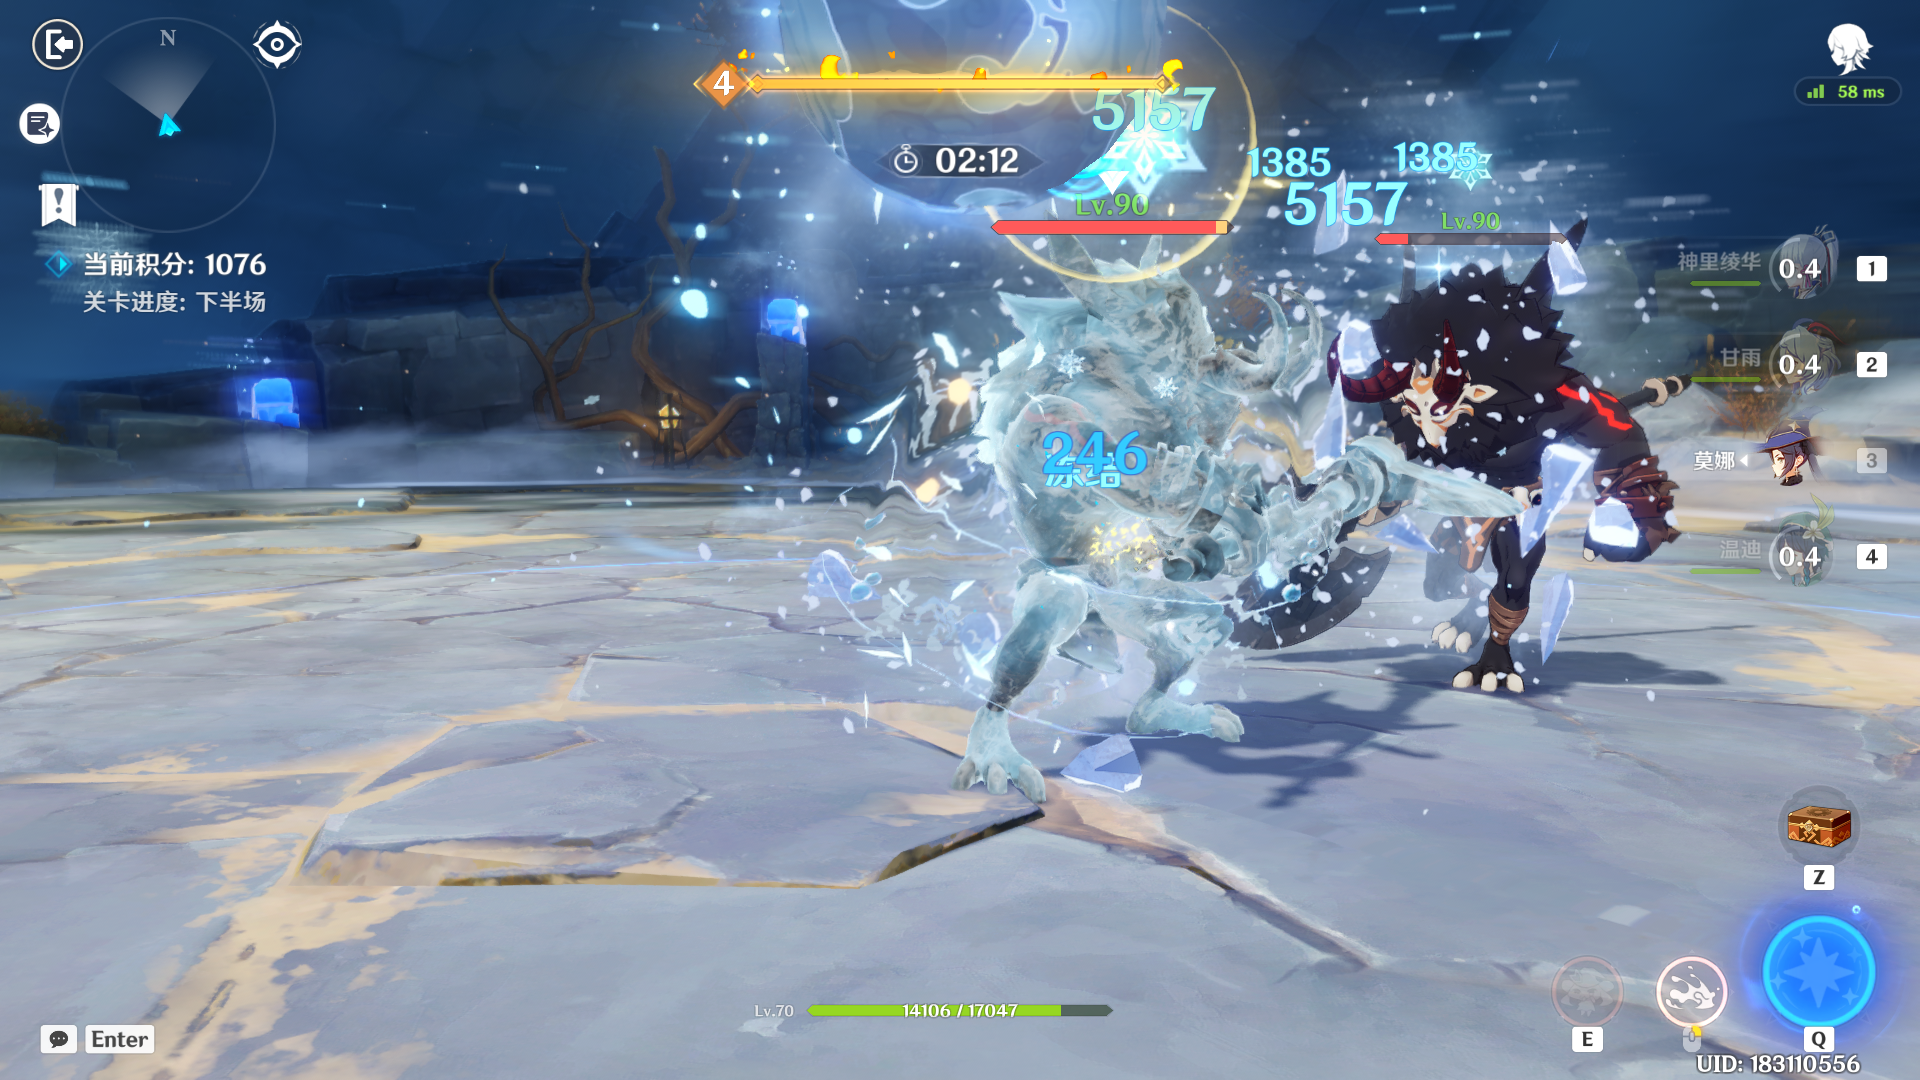bighili: (873, 216, 1352, 924), (1261, 239, 1698, 719)
